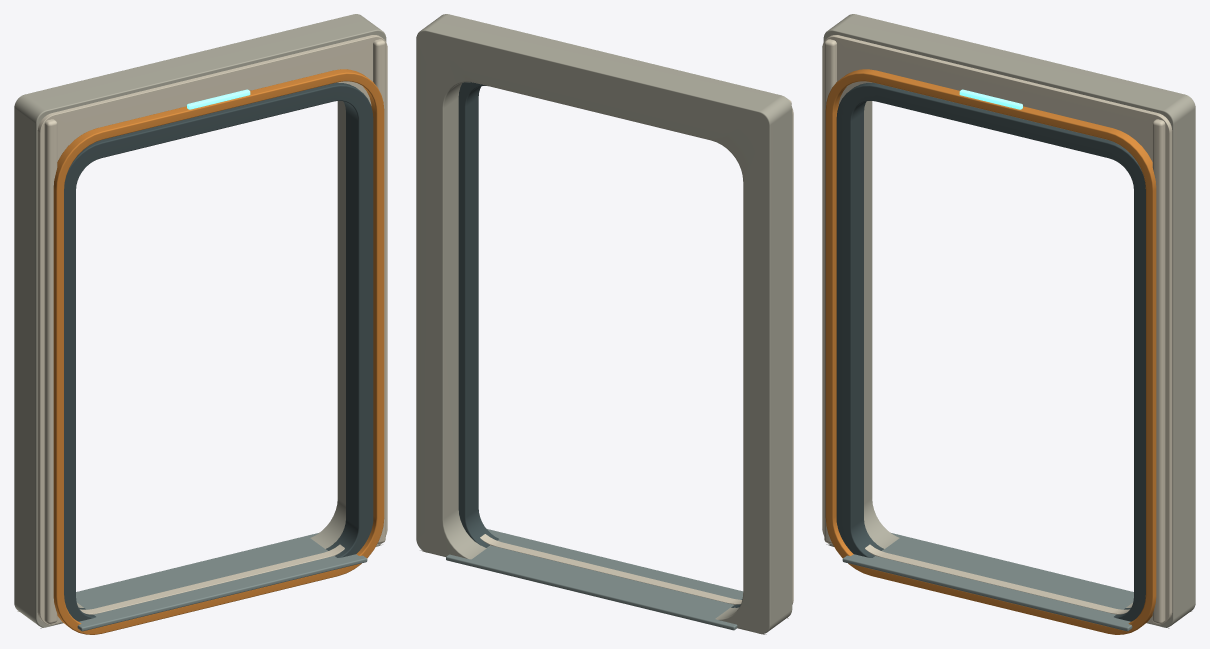
The model's file is junction-frame-2m.glb.
3 views of the same model, side by side, from view 1: azimuth 30°, elevation 25°; view 2: azimuth 150°, elevation 25°; view 3: azimuth 330°, elevation 25° (orthographic).
Parts seen in each view (by area): view 1: junction-frame-2m / 02 • inner shell, junction-frame-2m / 06 • dark anodized frame, junction-frame-2m / 01 • warm porcelain paint, junction-frame-2m / 03 • ochre enamel, junction-frame-2m / 05 • brushed titanium; view 2: junction-frame-2m / 02 • inner shell, junction-frame-2m / 06 • dark anodized frame, junction-frame-2m / 05 • brushed titanium, junction-frame-2m / 01 • warm porcelain paint; view 3: junction-frame-2m / 02 • inner shell, junction-frame-2m / 06 • dark anodized frame, junction-frame-2m / 01 • warm porcelain paint, junction-frame-2m / 03 • ochre enamel, junction-frame-2m / 05 • brushed titanium.
Part boxes in pixels (left/top/right/bottom): junction-frame-2m / 02 • inner shell: left=14, top=14, right=386, bottom=628; junction-frame-2m / 06 • dark anodized frame: left=64, top=82, right=373, bottom=621; junction-frame-2m / 01 • warm porcelain paint: left=37, top=35, right=387, bottom=624; junction-frame-2m / 03 • ochre enamel: left=53, top=69, right=384, bottom=634; junction-frame-2m / 05 • brushed titanium: left=76, top=533, right=367, bottom=631; junction-frame-2m / 02 • inner shell: left=416, top=14, right=792, bottom=634; junction-frame-2m / 06 • dark anodized frame: left=458, top=82, right=742, bottom=607; junction-frame-2m / 05 • brushed titanium: left=446, top=529, right=743, bottom=630; junction-frame-2m / 01 • warm porcelain paint: left=480, top=99, right=793, bottom=604; junction-frame-2m / 02 • inner shell: left=823, top=14, right=1195, bottom=628; junction-frame-2m / 06 • dark anodized frame: left=836, top=82, right=1145, bottom=621; junction-frame-2m / 01 • warm porcelain paint: left=822, top=35, right=1172, bottom=624; junction-frame-2m / 03 • ochre enamel: left=825, top=69, right=1156, bottom=634; junction-frame-2m / 05 • brushed titanium: left=842, top=533, right=1133, bottom=631.
Size of the model in its own units: 1.99 by 2.86 by 0.38.
